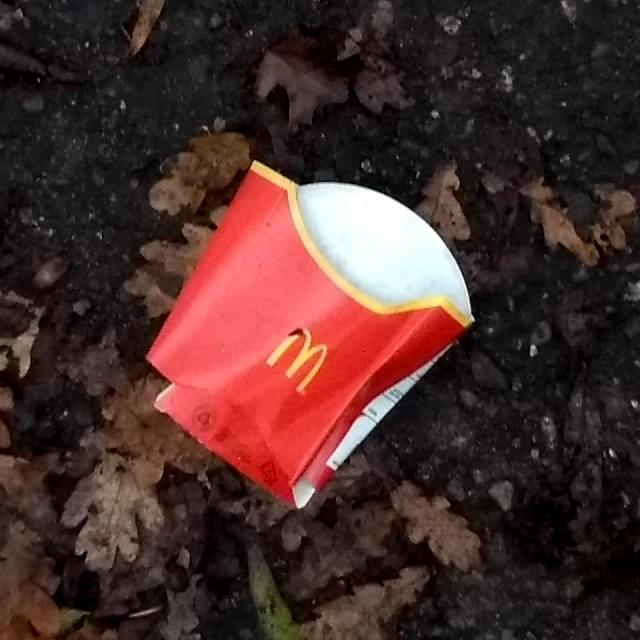Paper: (138, 154, 476, 516)
